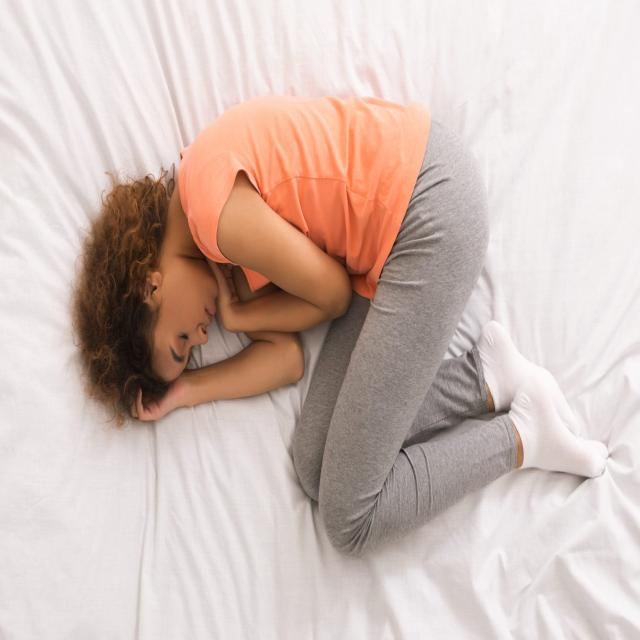sleeping-person: (58, 50, 620, 570)
